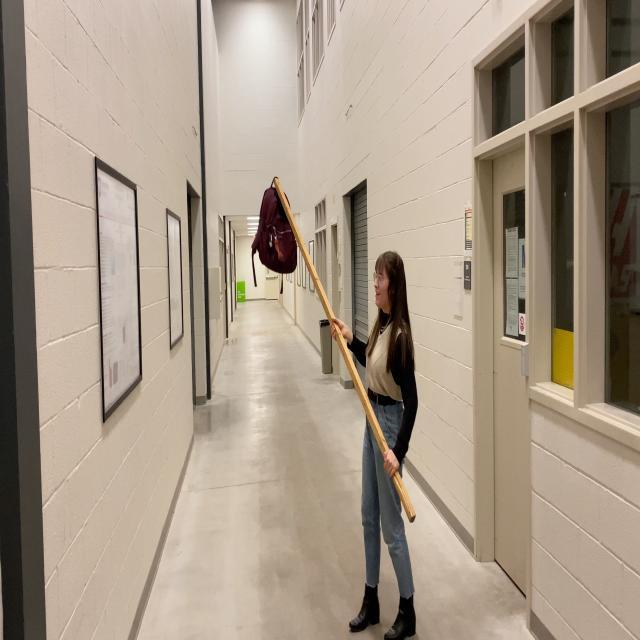Backpacks: (257, 187, 298, 276)
